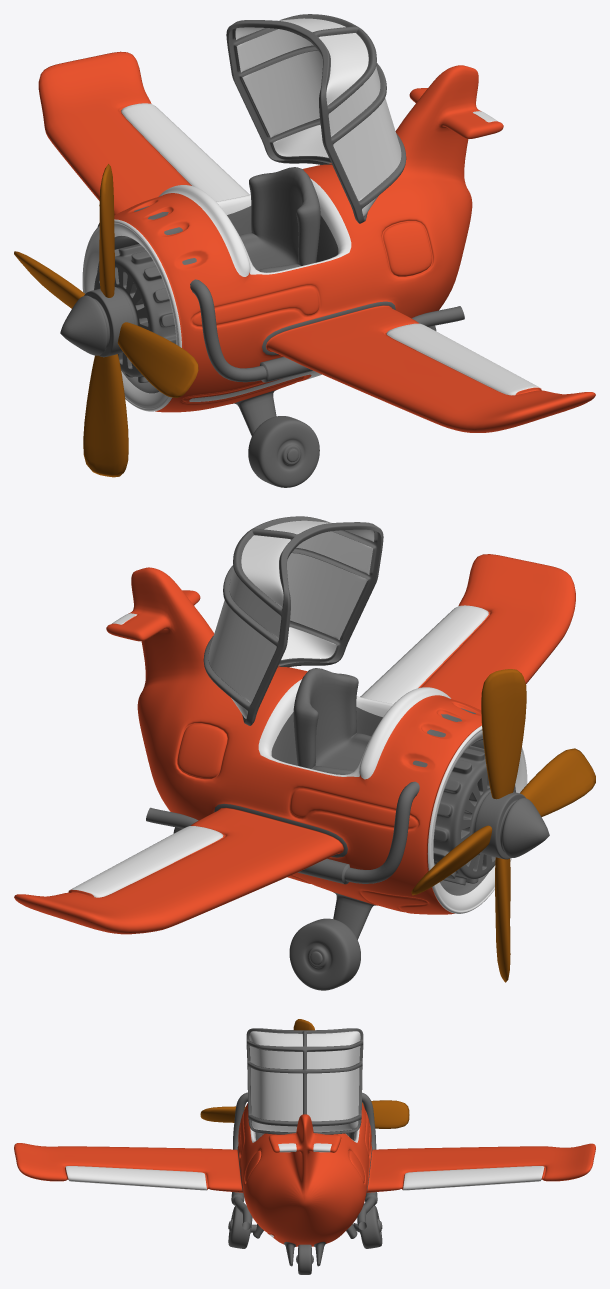
Rendered from cartoon_plane_01.fbx.
3 renders of one model, top to bottom at view 1: azimuth 30°, elevation 25°; view 2: azimuth 150°, elevation 25°; view 3: azimuth 270°, elevation 25°, orthographic. The views are drawn at different scales.
Visible parts, largest first — view 1: Cylinder.002; view 2: Cylinder.002; view 3: Cylinder.002.
Part boxes in pixels (bbox=[...]): Cylinder.002: bbox=[14, 14, 595, 487]; Cylinder.002: bbox=[14, 516, 595, 990]; Cylinder.002: bbox=[14, 1019, 595, 1274].
Bounding box in the file's own units: 409 × 366 × 801.
